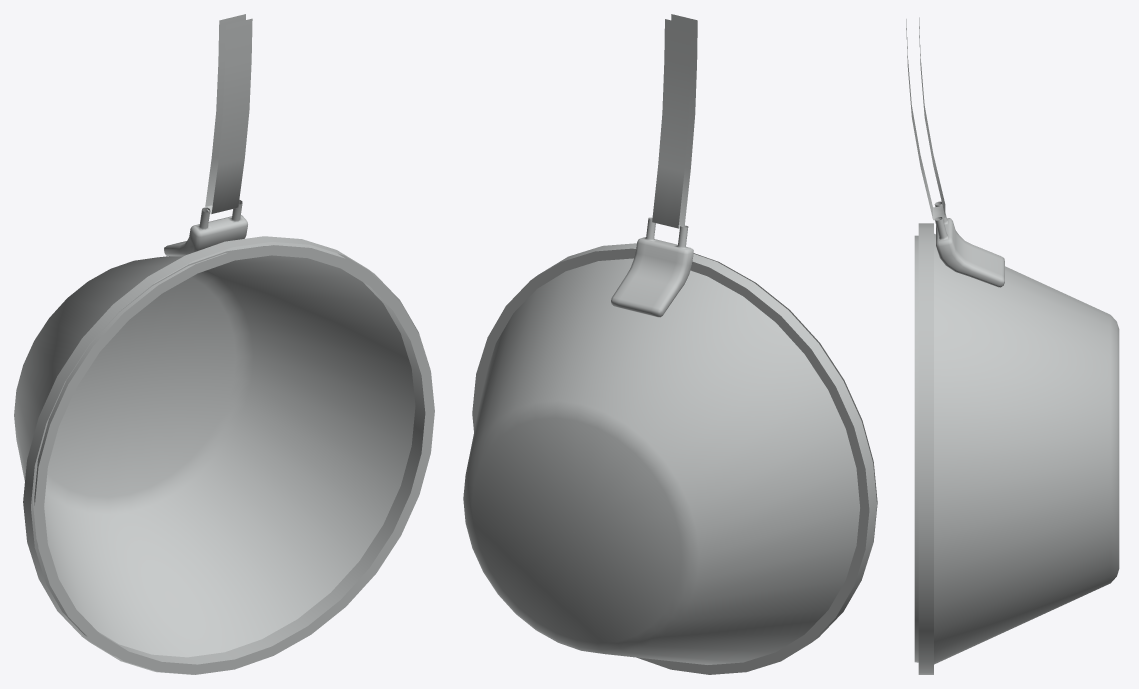
File: MeshPot_13_0_GeomSubset_0.obj
3 views of the same model, side by side, from view 1: azimuth 30°, elevation 25°; view 2: azimuth 150°, elevation 25°; view 3: azimuth 270°, elevation 25° (orthographic). The views are drawn at different scales.
Visible parts, largest first — view 1: MeshPot_13_0_GeomSubset_0; view 2: MeshPot_13_0_GeomSubset_0; view 3: MeshPot_13_0_GeomSubset_0.
Part boxes in pixels (left/top/right/bottom): MeshPot_13_0_GeomSubset_0: left=14, top=14, right=434, bottom=674; MeshPot_13_0_GeomSubset_0: left=463, top=14, right=877, bottom=674; MeshPot_13_0_GeomSubset_0: left=906, top=17, right=1119, bottom=674.
Size of the model in its own units: 0.3085 by 0.4766 by 0.1487.
